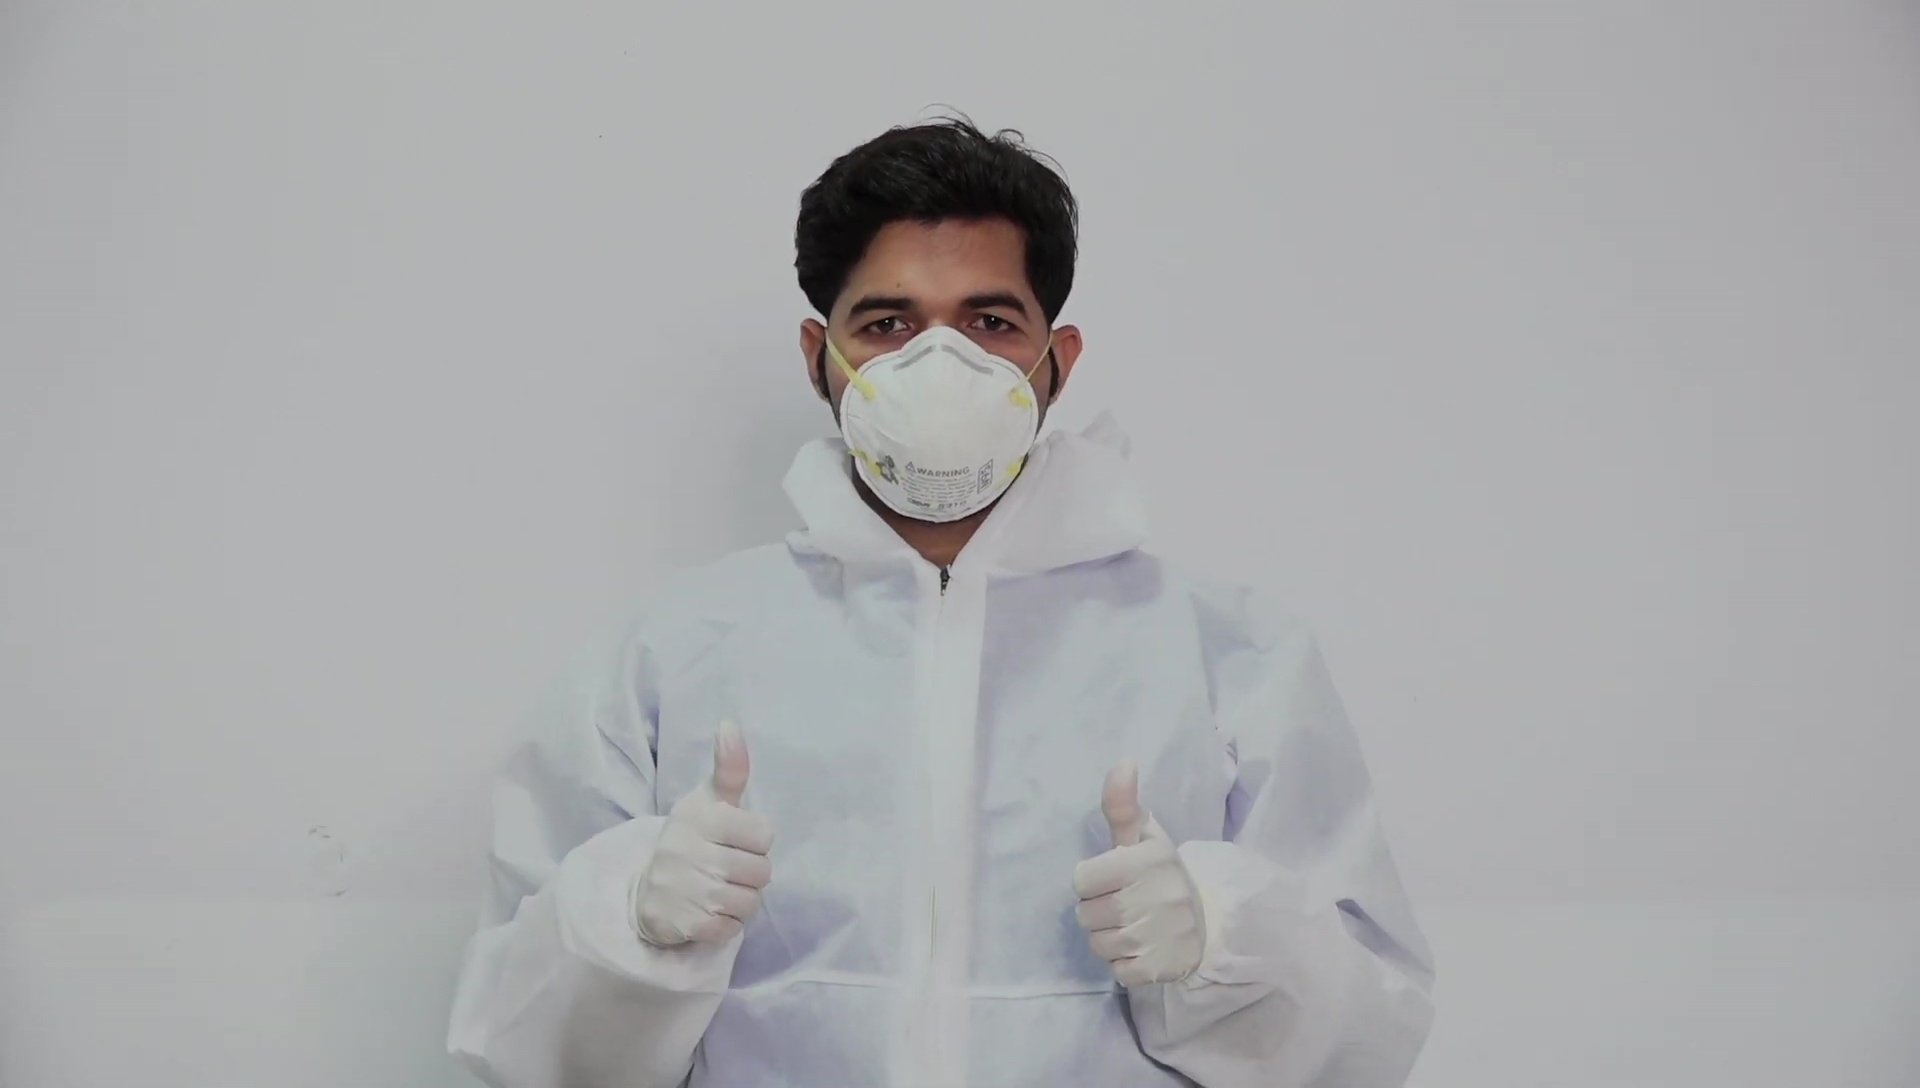Coverall: (447, 544, 1437, 1083)
Gloves: (639, 719, 776, 954), (1070, 764, 1205, 990)
with_mask: (831, 311, 1044, 521)
